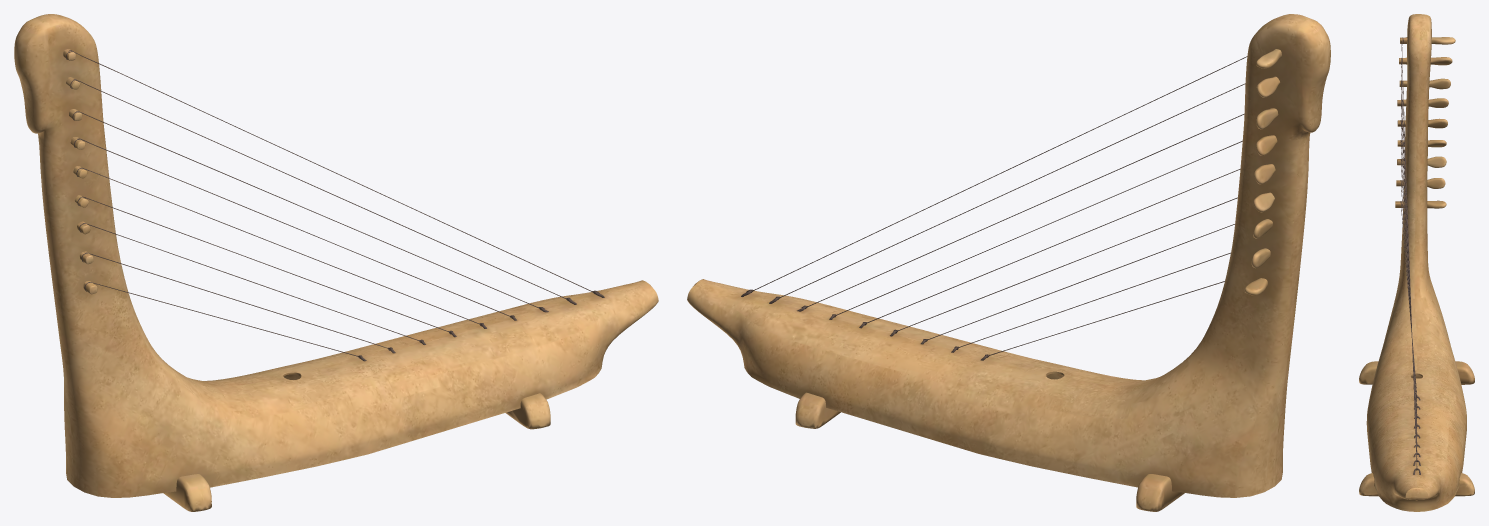
Rendered from hero-instrument.glb.
The picture shows the model from 3 angles, left to right: view 1: azimuth 30°, elevation 25°; view 2: azimuth 150°, elevation 25°; view 3: azimuth 270°, elevation 25°; orthographic projection. The views are drawn at different scales.
Parts seen in each view (by area): view 1: Cylinder; view 2: Cylinder; view 3: Cylinder.
Part boxes in pixels (box(x1,y1,x2,y2)): Cylinder: box(14, 14, 658, 511); Cylinder: box(687, 14, 1330, 511); Cylinder: box(1359, 14, 1474, 511).
Size of the model in its own units: 1.96 by 1.44 by 0.4619.
2 materials, 1 textured.
